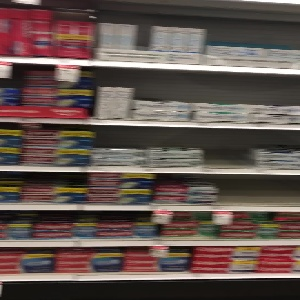void: (221, 174, 300, 205), (205, 132, 256, 167)
